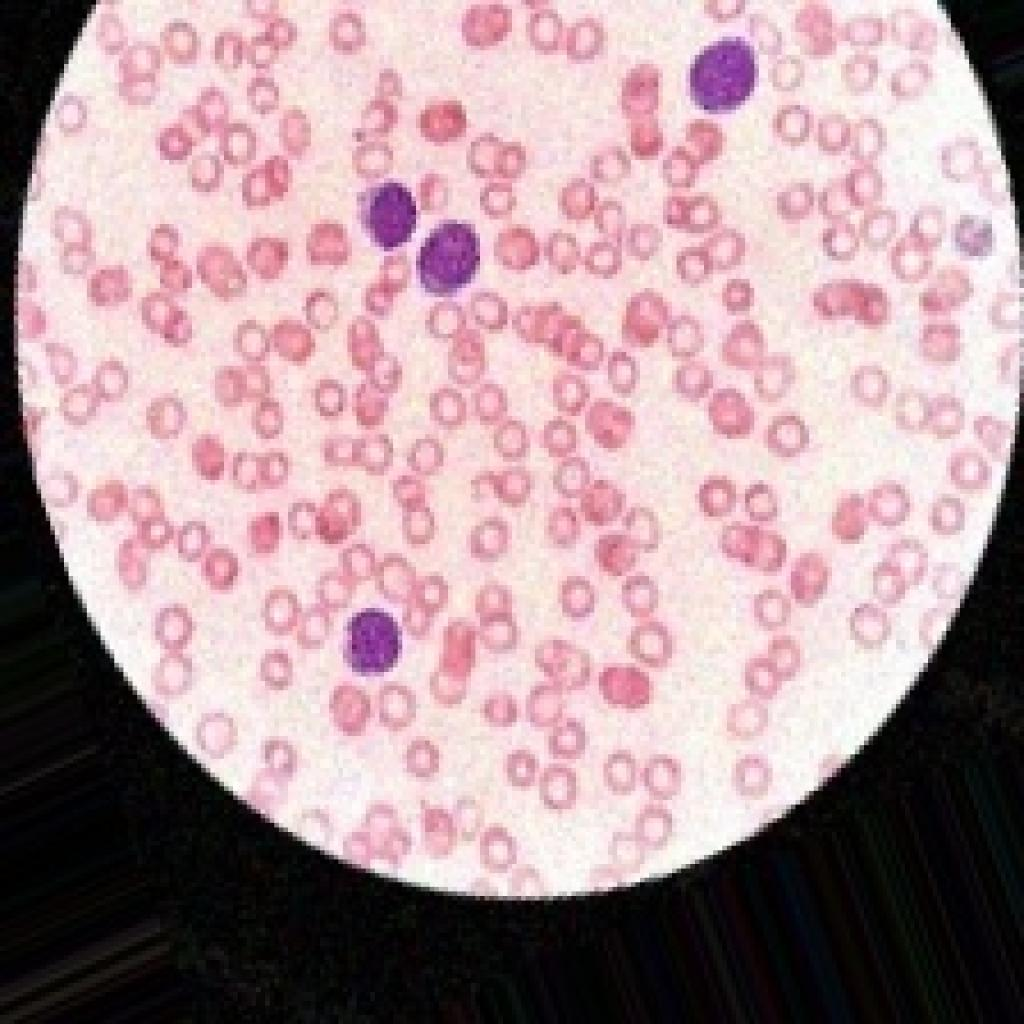Sphericalbacteria: (9, 0, 1020, 901)
